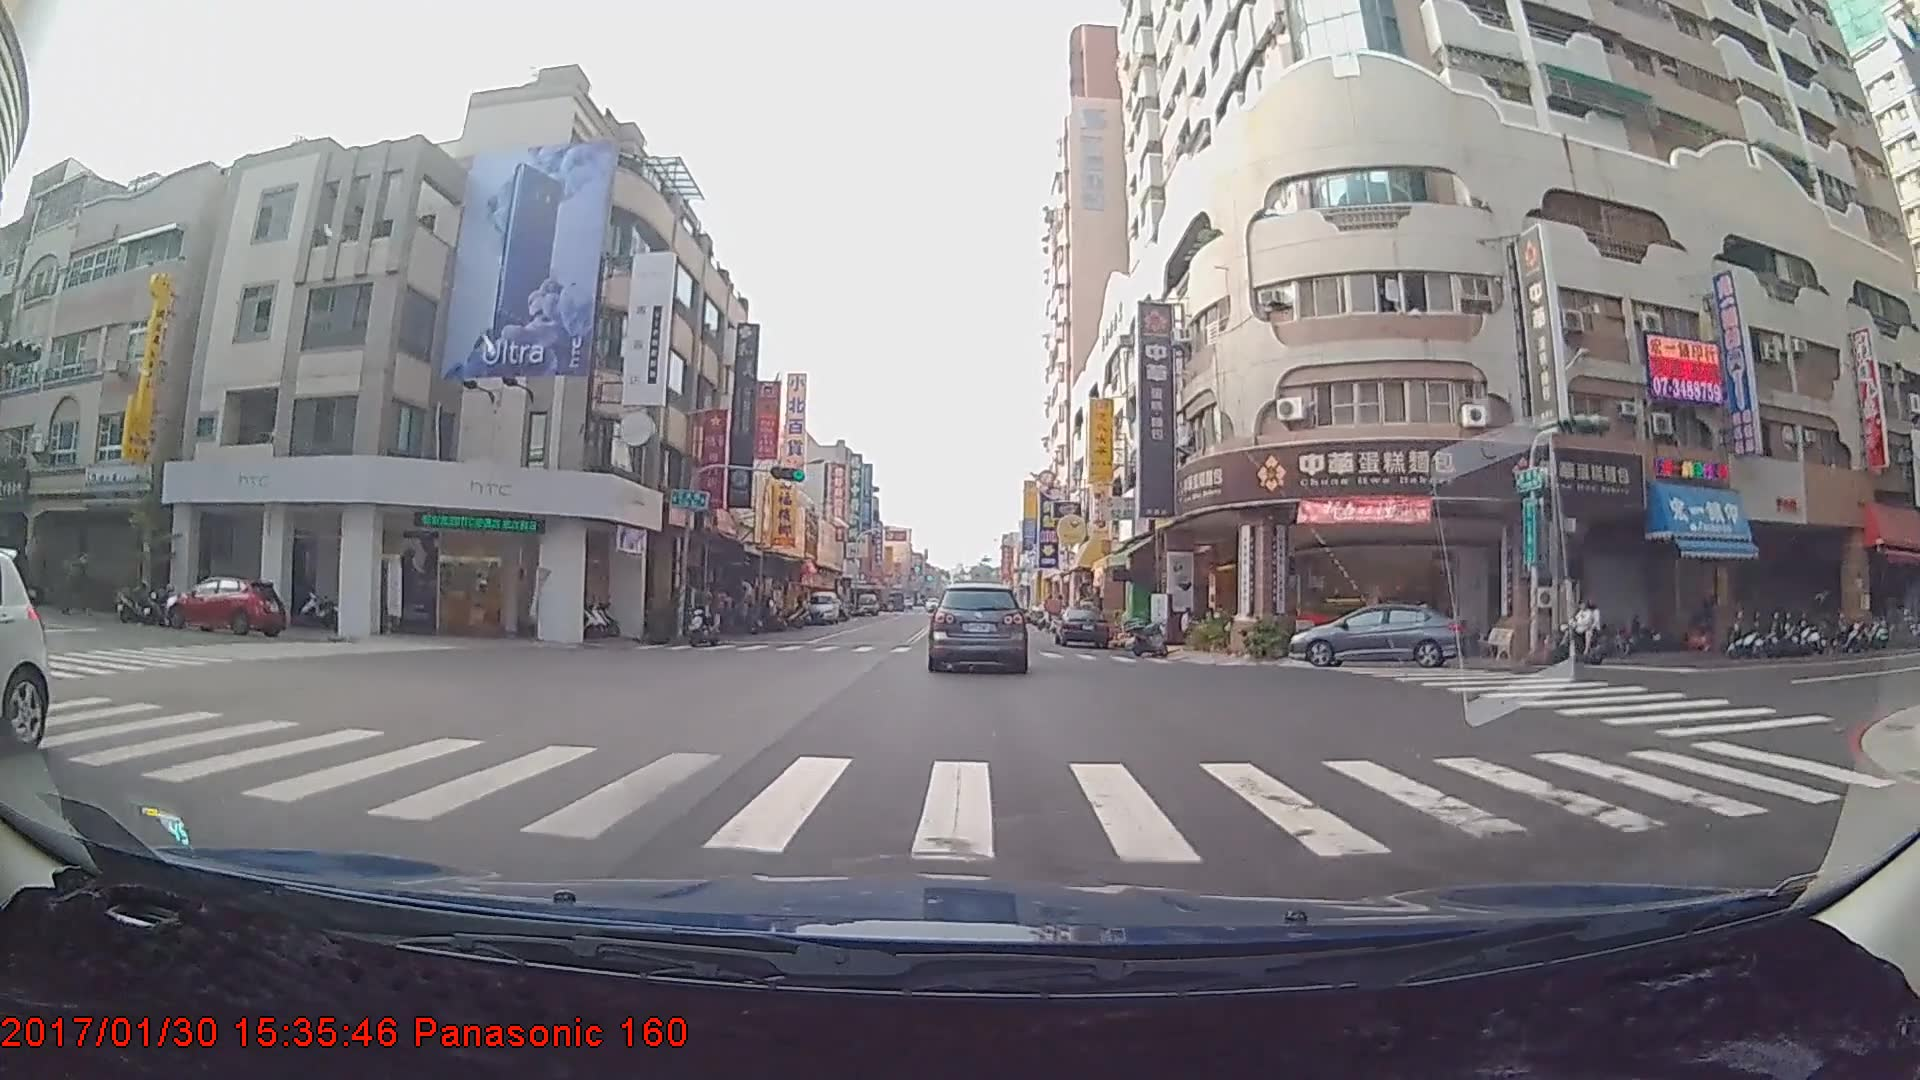rider: (1557, 593, 1616, 659), (685, 581, 725, 642)
vehicle: (1287, 598, 1462, 663), (930, 584, 1025, 673), (168, 572, 289, 637), (1053, 601, 1110, 646), (803, 588, 840, 622), (855, 592, 879, 616)
